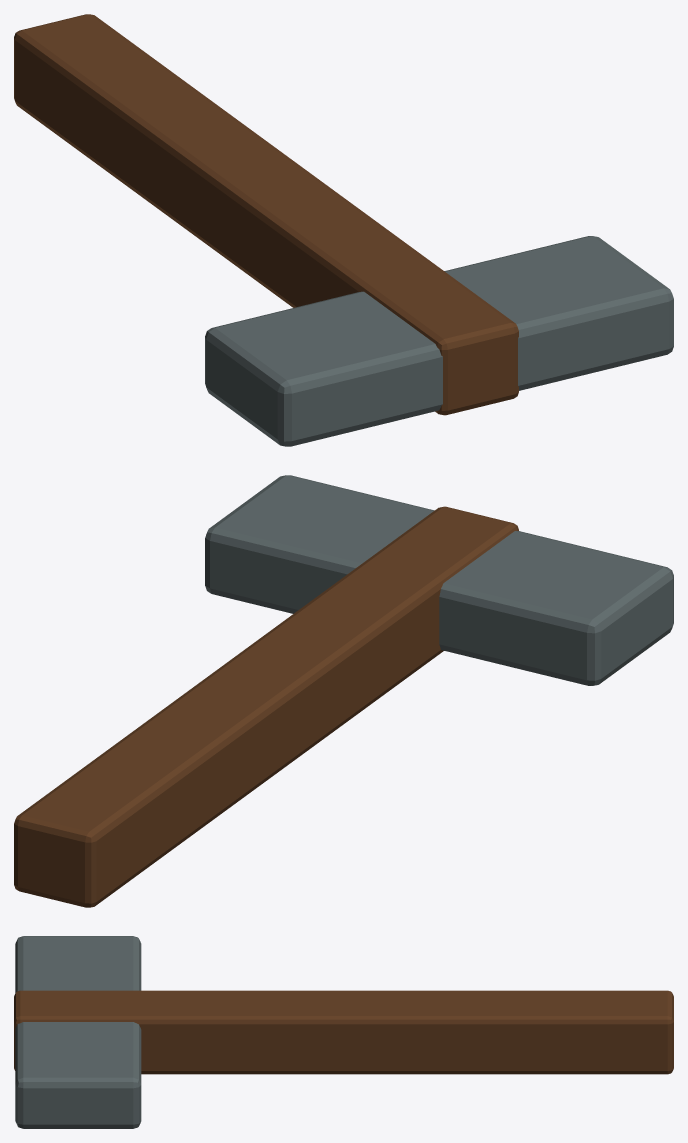
The model's file is pelekys_axe_1h_LOD2.glb.
3 renders of one model, top to bottom at view 1: azimuth 30°, elevation 25°; view 2: azimuth 150°, elevation 25°; view 3: azimuth 270°, elevation 25°, orthographic. The views are drawn at different scales.
Parts seen in each view (by area): view 1: LOD2_Haft, LOD2_Head; view 2: LOD2_Haft, LOD2_Head; view 3: LOD2_Haft, LOD2_Head.
Boxes of the visible parts, x1,y1,x2,y2 form: LOD2_Haft: [14, 14, 518, 415]; LOD2_Head: [205, 236, 673, 446]; LOD2_Haft: [14, 506, 518, 907]; LOD2_Head: [205, 475, 673, 685]; LOD2_Haft: [14, 990, 673, 1074]; LOD2_Head: [15, 936, 141, 1128].
Bounding box in the file's own units: 0.4352 × 0.08 × 0.82.
